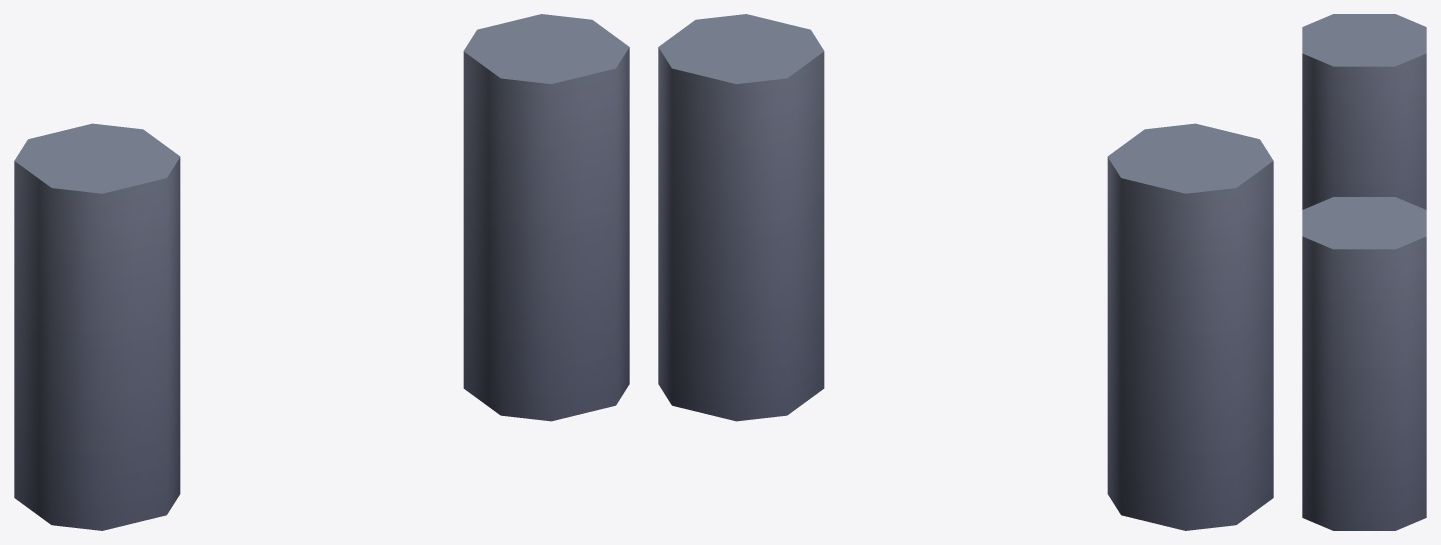
Rendered from kenney-marble-support-two-middle.glb.
The picture shows the model from 3 angles, left to right: view 1: azimuth 30°, elevation 25°; view 2: azimuth 150°, elevation 25°; view 3: azimuth 270°, elevation 25°; orthographic projection. The views are drawn at different scales.
Visible parts, largest first — view 1: support-two-middle; view 2: support-two-middle; view 3: support-two-middle.
Part boxes in pixels (x1,y1,x2,y2): support-two-middle: (14,14,629,530); support-two-middle: (658,14,1273,530); support-two-middle: (1302,14,1426,530).
Size of the model in its own units: 0.8969 by 0.5 by 0.2.
Materials: 1 (1 with a texture image).
